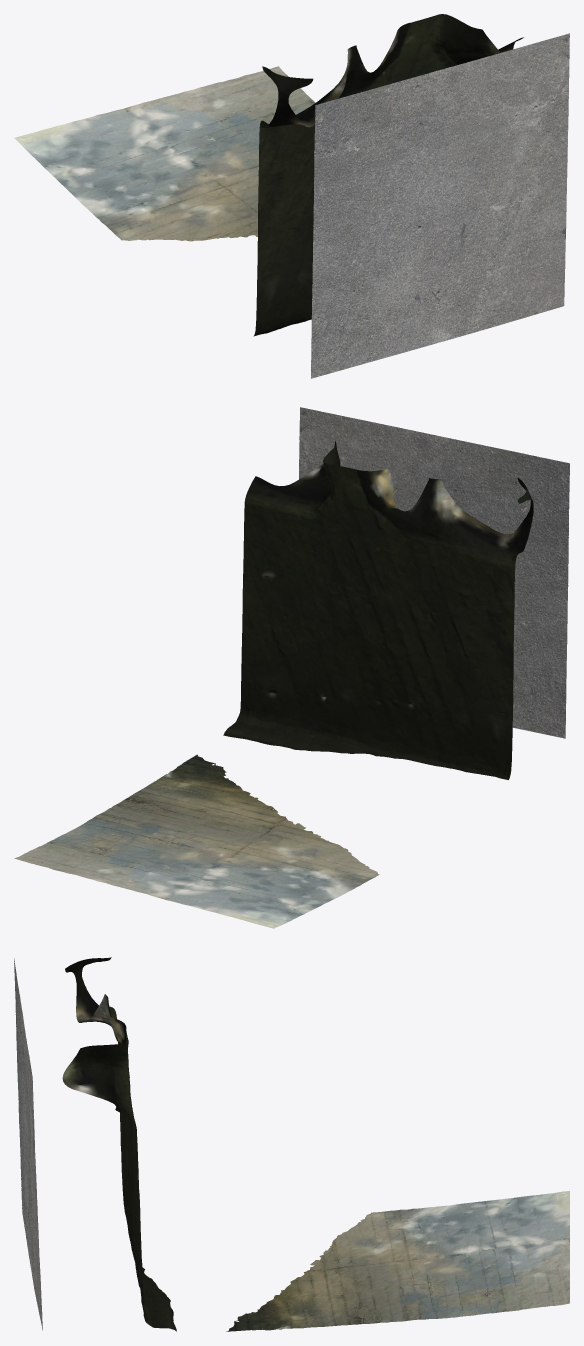
File: Tile_+006_+009.obj
3 views of the same model, one above another, from view 1: azimuth 30°, elevation 25°; view 2: azimuth 150°, elevation 25°; view 3: azimuth 270°, elevation 25° (orthographic). The views are drawn at different scales.
Bounding box in the file's own units: 3.03 × 3.03 × 5.97.
1 material, 1 textured.
